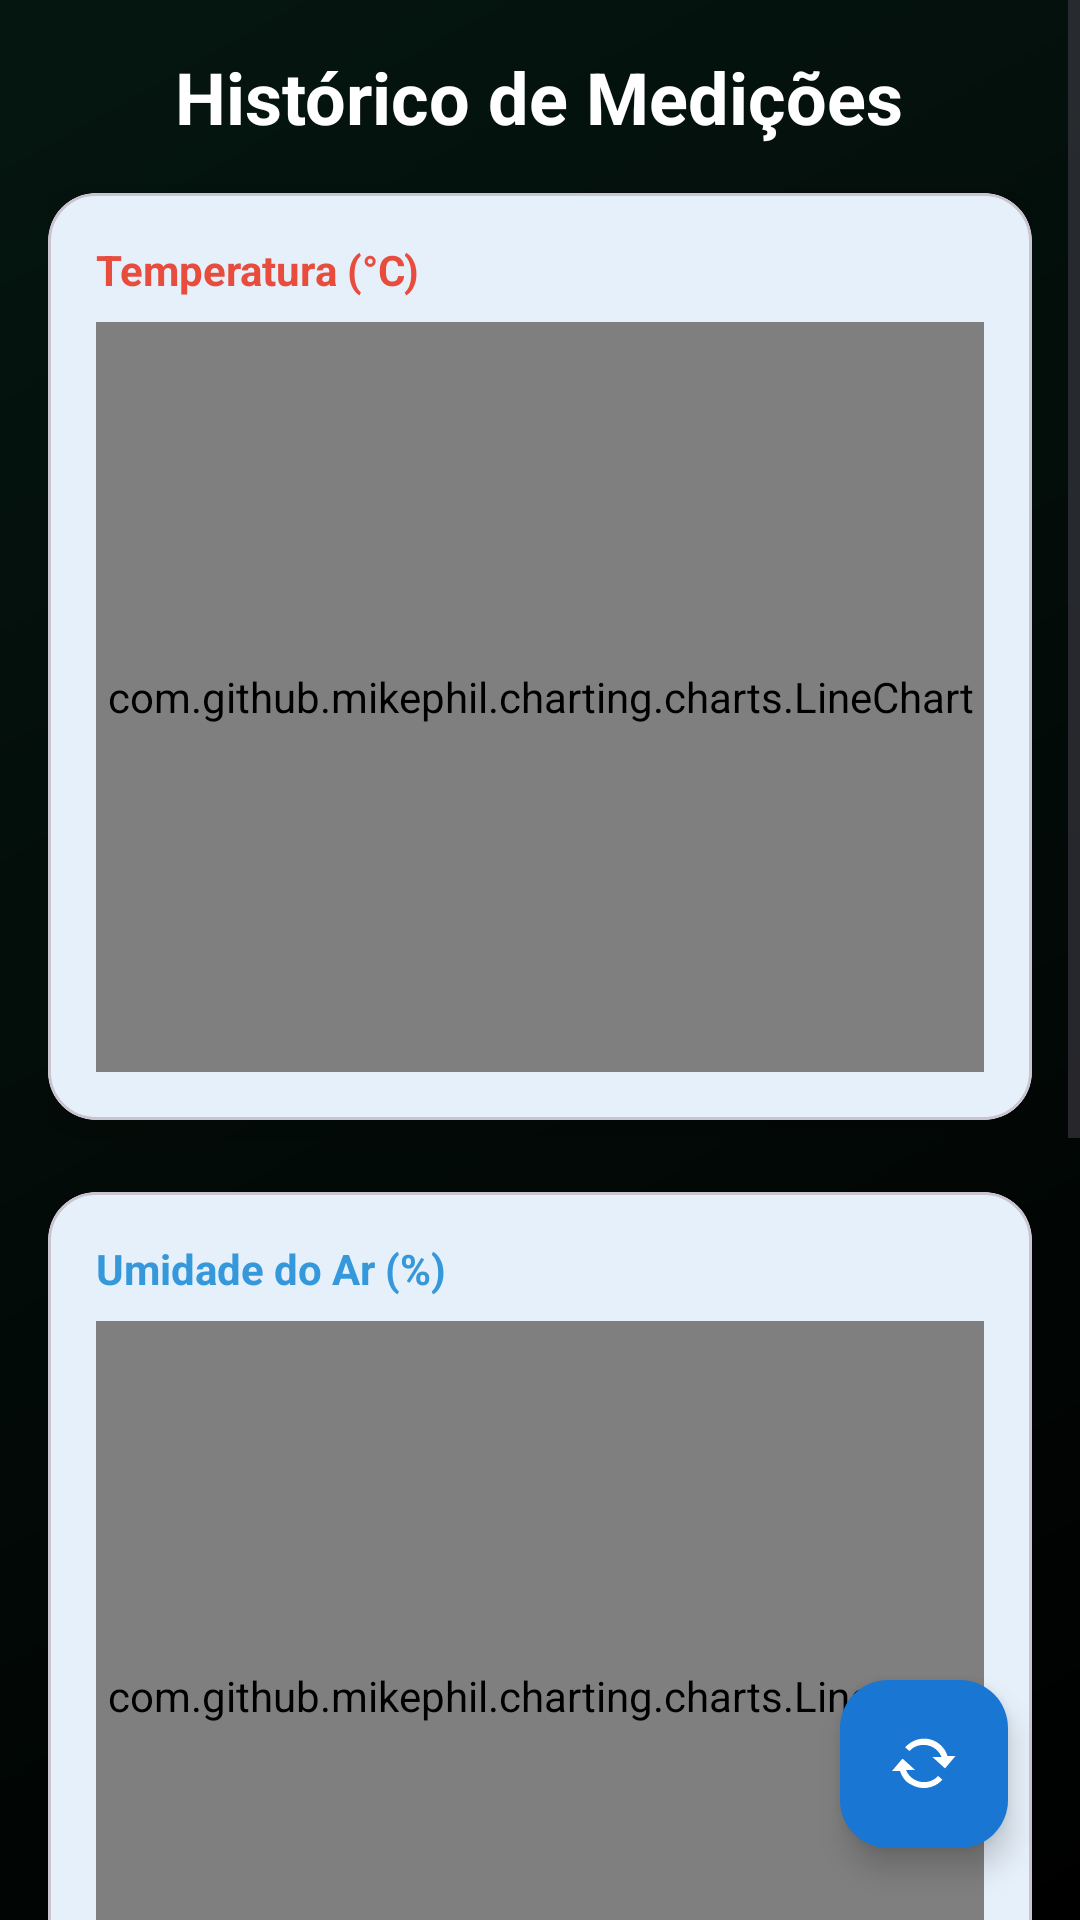

Point at icon controls on the screen. Image size 1080px x 1920px, points as (x,y).
Atualizar Dados: (924,1764)
